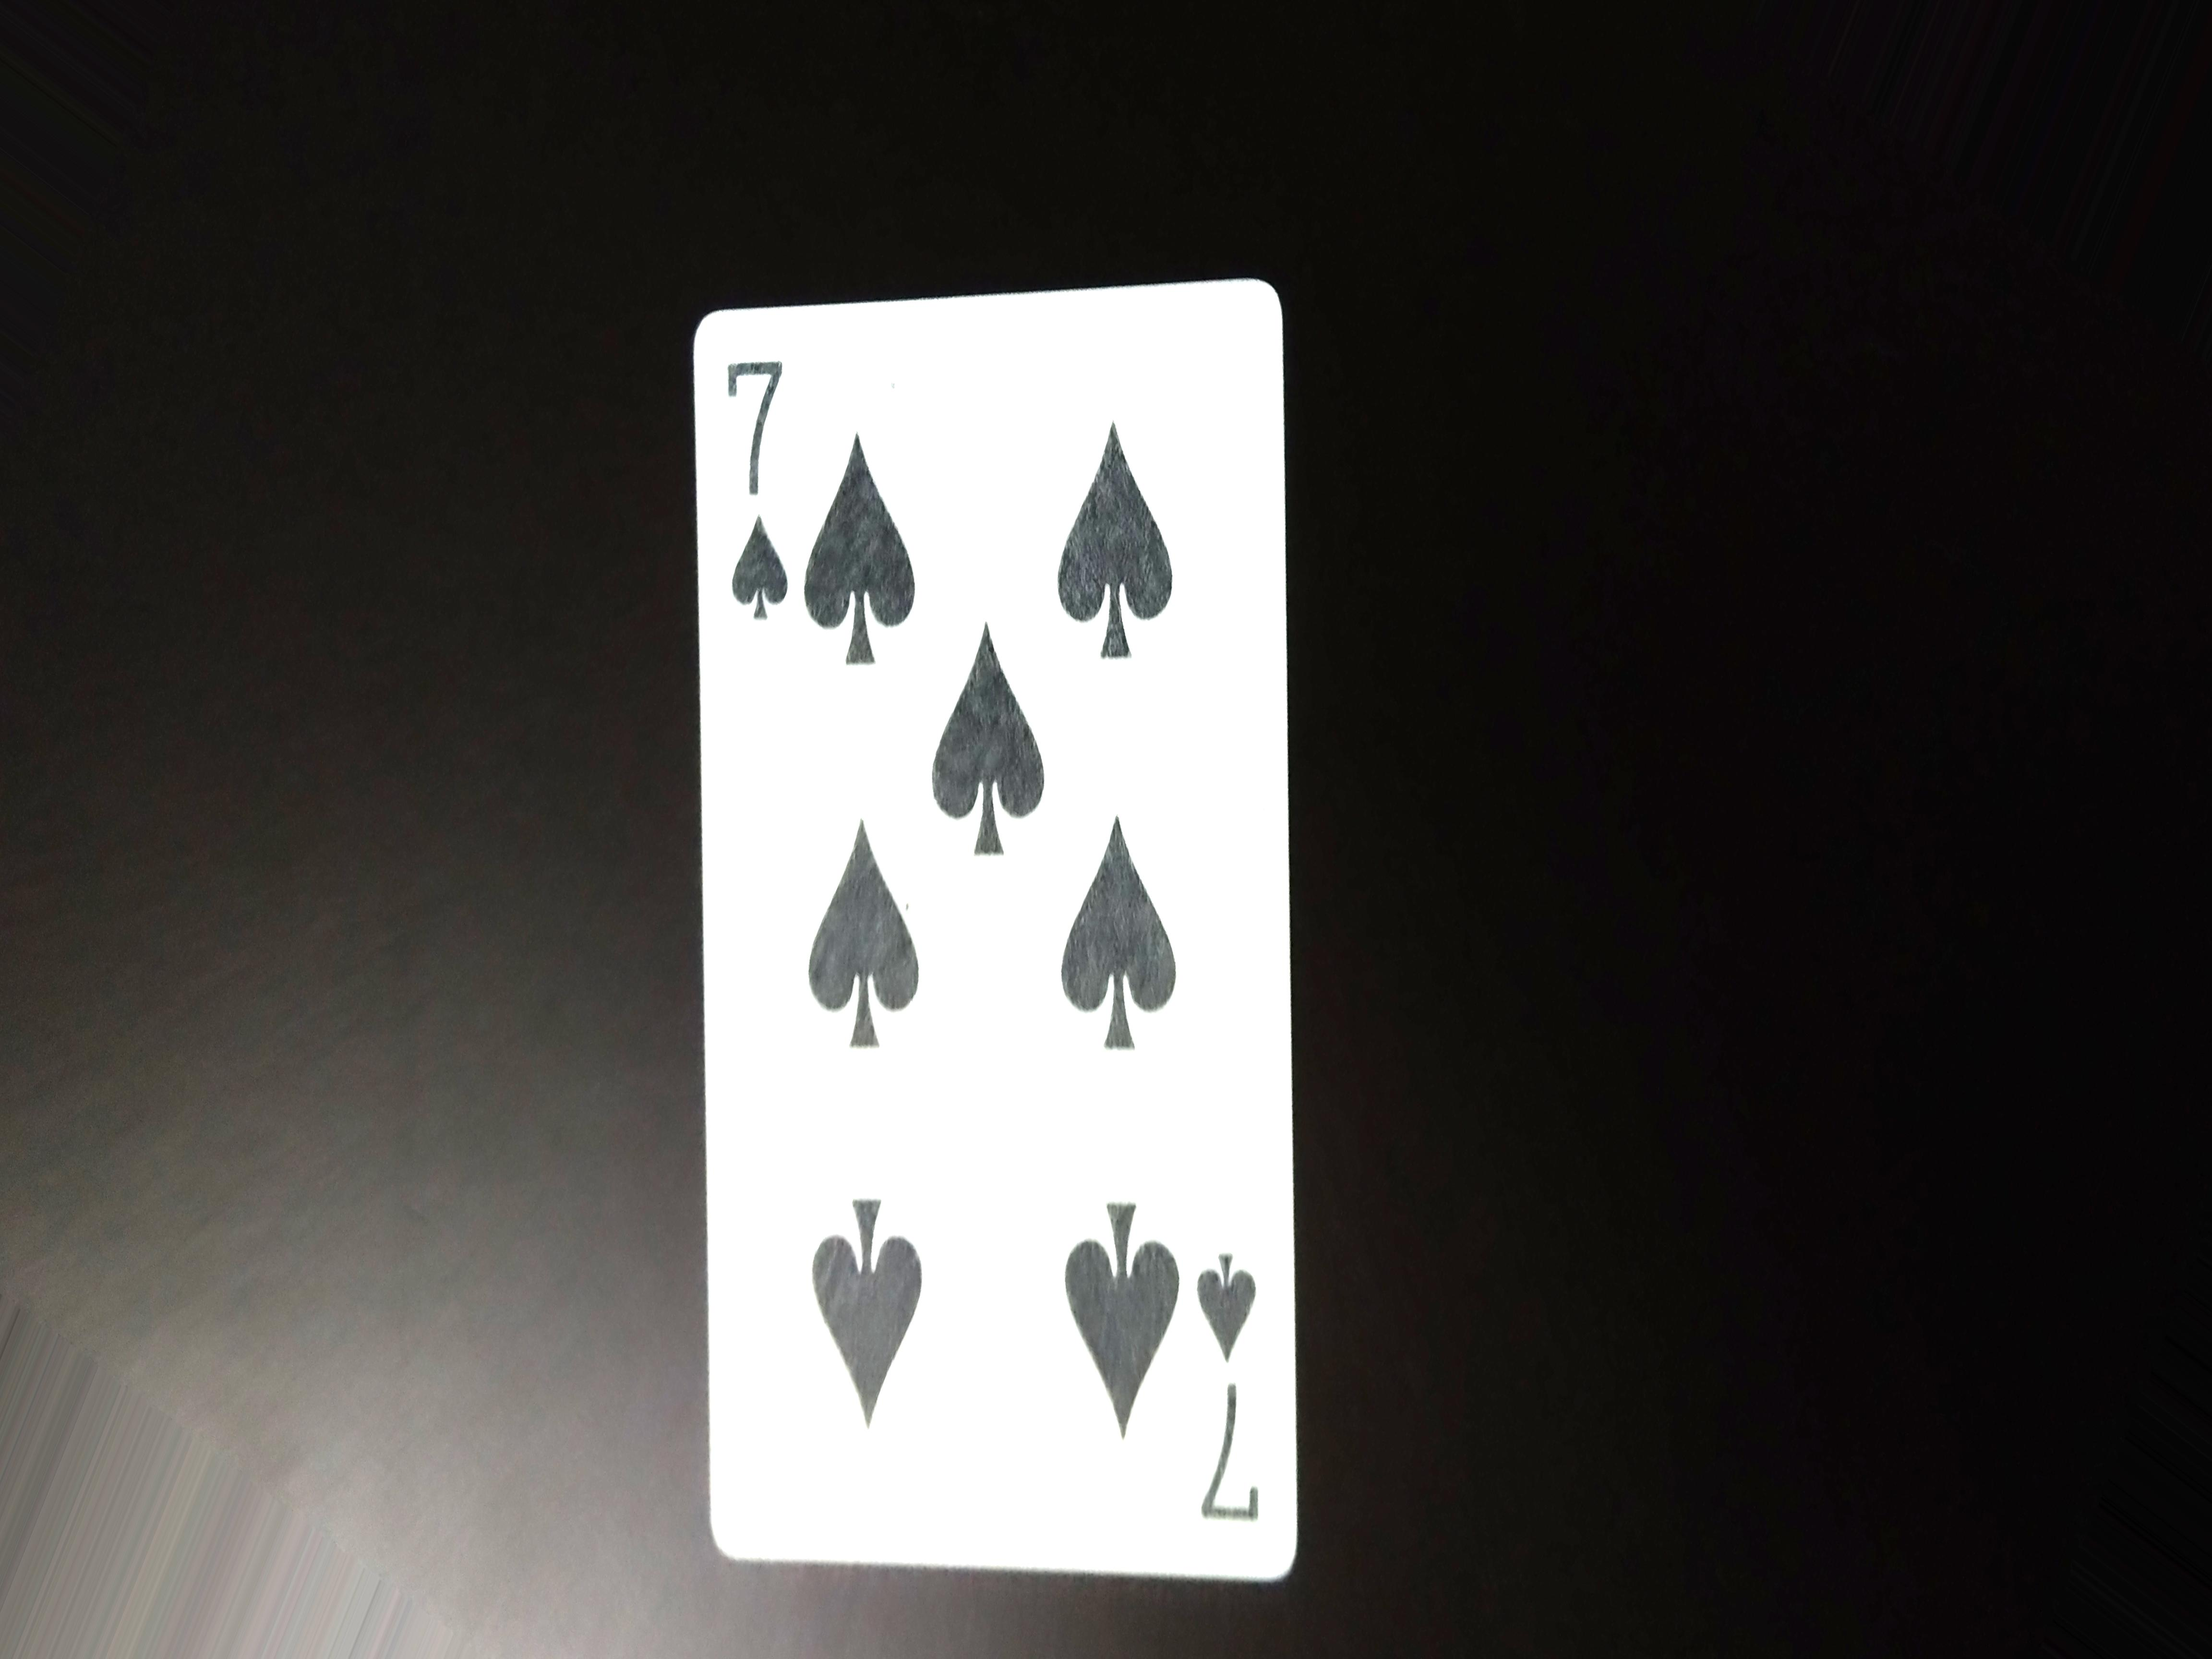7S: (714, 342, 801, 673)
